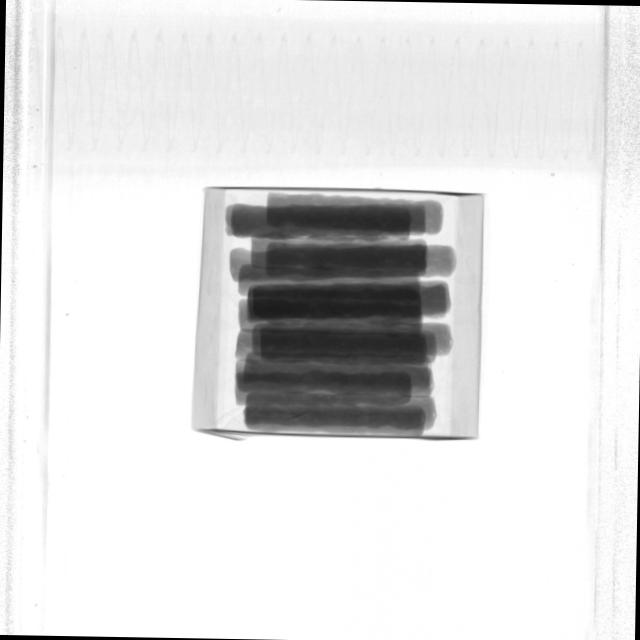ym: (279, 409, 312, 422)
